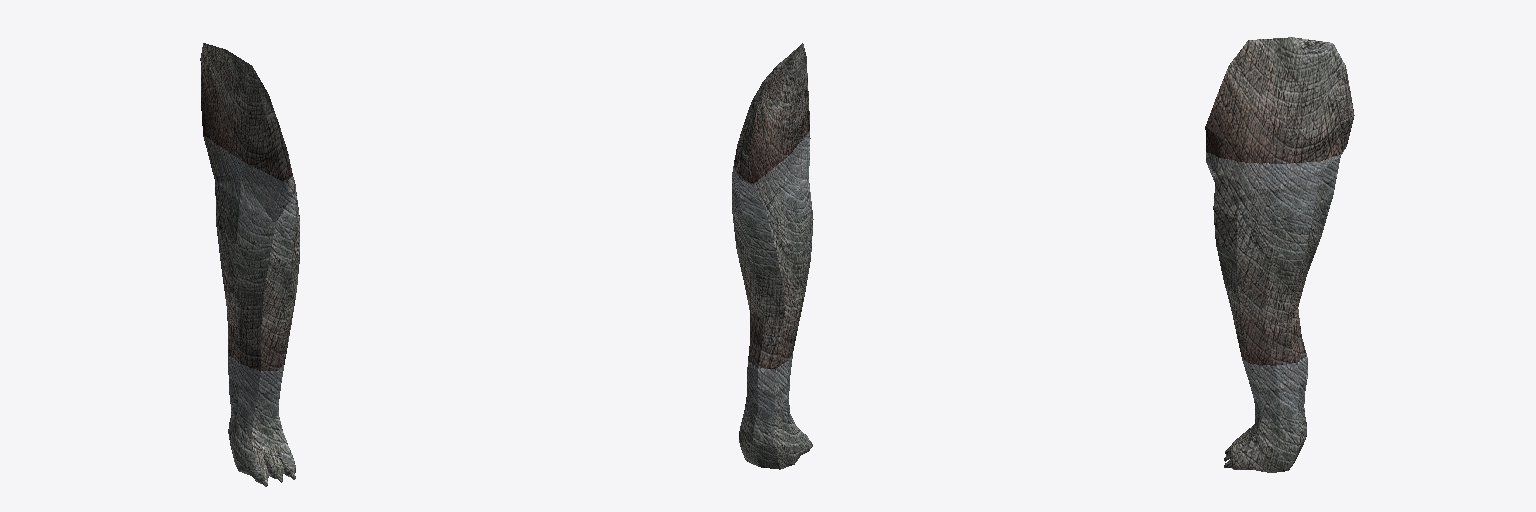
3 views of the same model, side by side, from view 1: azimuth 30°, elevation 25°; view 2: azimuth 150°, elevation 25°; view 3: azimuth 270°, elevation 25° (orthographic).
Visible parts, largest first — view 1: PiernaTI; view 2: PiernaTI; view 3: PiernaTI.
Boxes of the visible parts, <box> form: PiernaTI: <box>200,43,299,486</box>; PiernaTI: <box>732,43,813,469</box>; PiernaTI: <box>1205,37,1354,472</box>.
Bounding box in the file's own units: 0.4802 × 3.43 × 1.12.
1 materials, 1 textured.